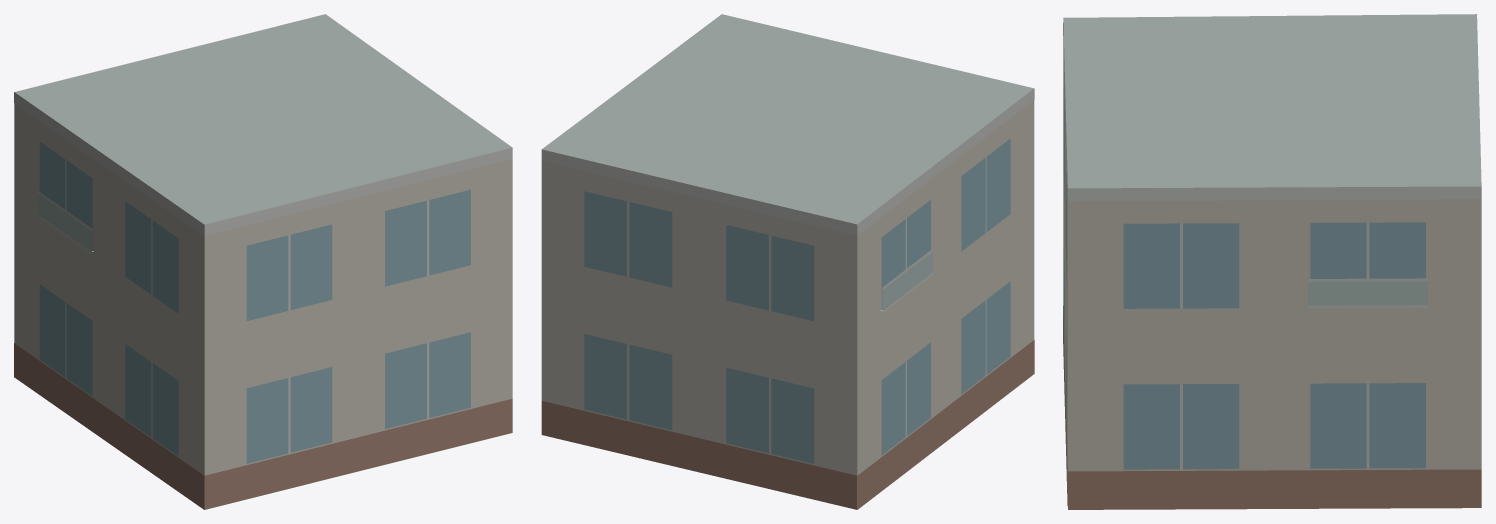
Rendered from survey-upis-32664002.glb.
The picture shows the model from 3 angles, left to right: view 1: azimuth 30°, elevation 25°; view 2: azimuth 150°, elevation 25°; view 3: azimuth 270°, elevation 25°; orthographic projection. The views are drawn at different scales.
Visible parts, largest first — view 1: survey-upis-32664002.tmp; view 2: survey-upis-32664002.tmp; view 3: survey-upis-32664002.tmp.
Boxes of the visible parts, x1,y1,x2,y2 form: survey-upis-32664002.tmp: [14, 14, 512, 509]; survey-upis-32664002.tmp: [541, 14, 1034, 509]; survey-upis-32664002.tmp: [1063, 14, 1481, 509].
Bounding box in the file's own units: 7.12 × 6.1 × 7.21.
